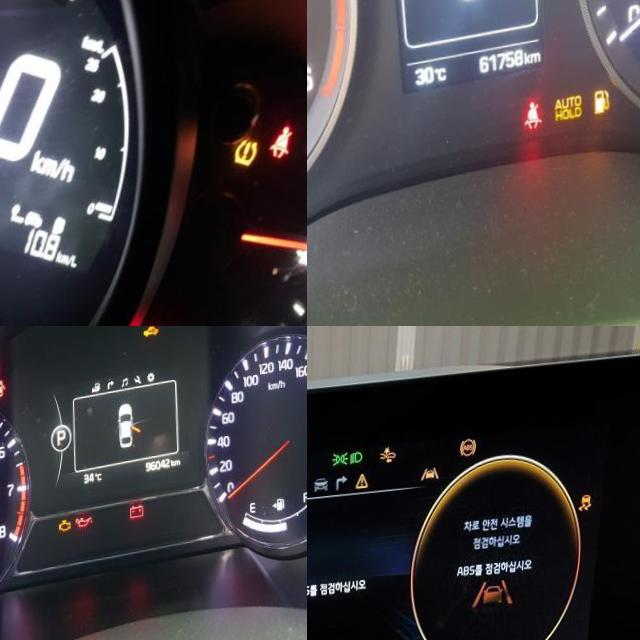Central Warning lamp: (356, 481, 369, 498)
LaneCenteringOff: (421, 476, 439, 490)
Low beam: (349, 459, 363, 473)
Low fuel level: (592, 95, 610, 123)
SideLamp: (332, 459, 348, 475)
